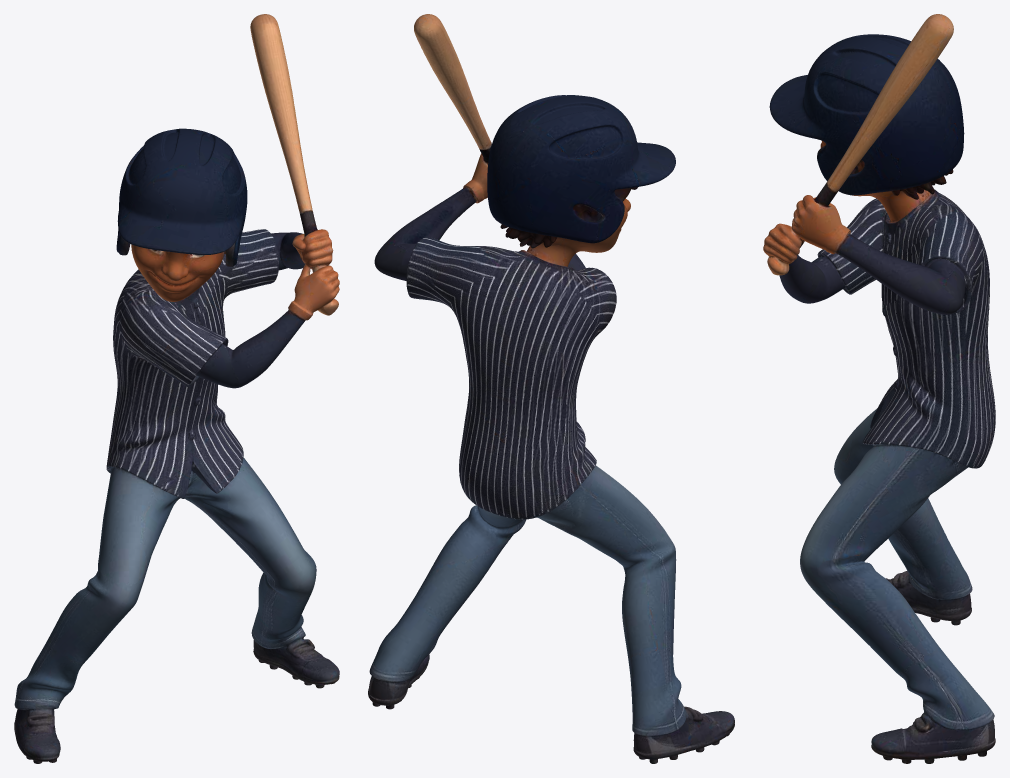
File: komi-batter.glb
The picture shows the model from 3 angles, left to right: view 1: azimuth 30°, elevation 25°; view 2: azimuth 150°, elevation 25°; view 3: azimuth 270°, elevation 25°; orthographic projection. The views are drawn at different scales.
Size of the model in its own units: 0.9507 by 1.9 by 0.5529.
Materials: 1 (1 with a texture image).
